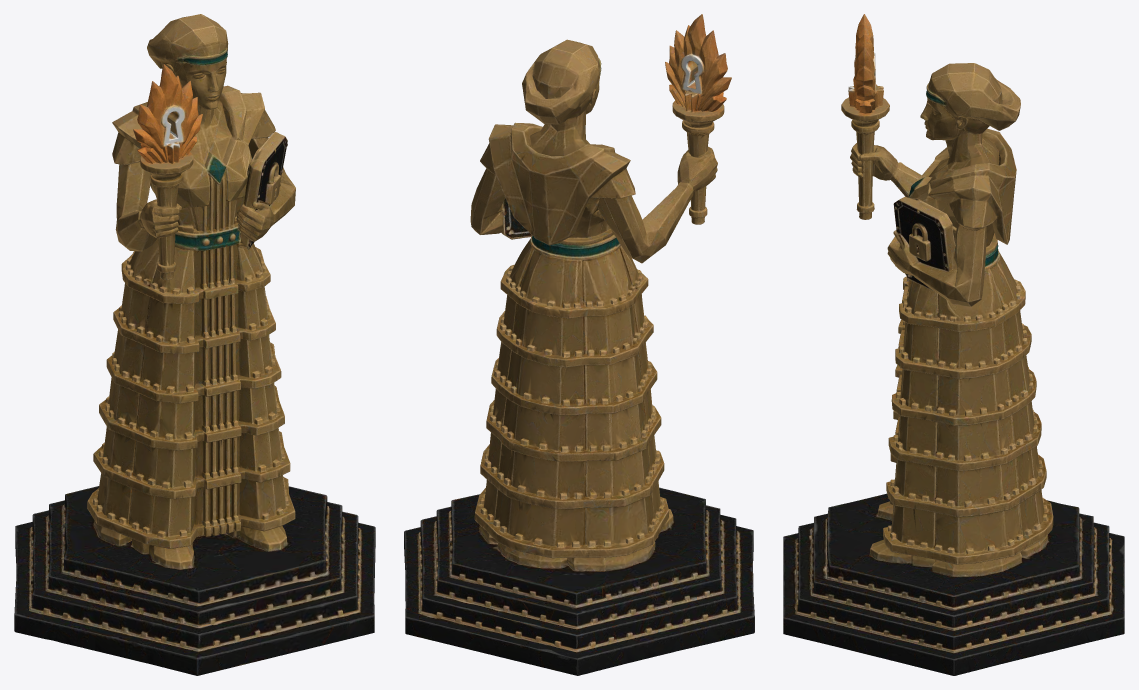
Rendered from liberty.glb.
3 views of the same model, side by side, from view 1: azimuth 30°, elevation 25°; view 2: azimuth 150°, elevation 25°; view 3: azimuth 270°, elevation 25° (orthographic). The views are drawn at different scales.
Bounding box in the file's own units: 1.24 × 1.9 × 1.08.
1 material, 1 textured.
